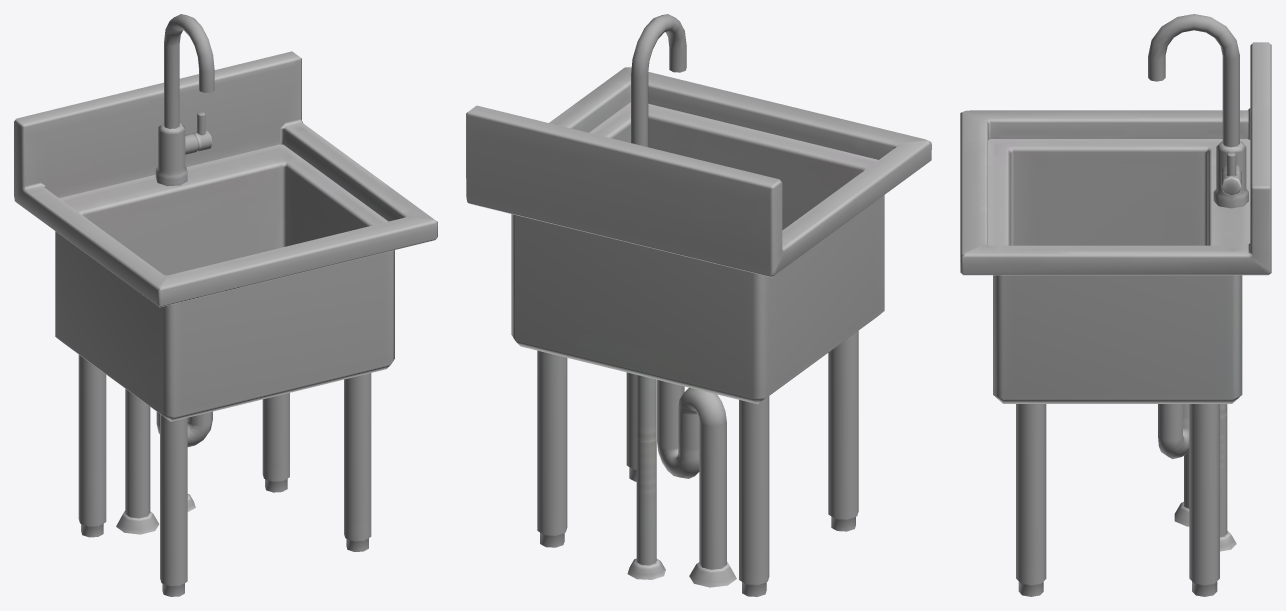
3 views of the same model, side by side, from view 1: azimuth 30°, elevation 25°; view 2: azimuth 150°, elevation 25°; view 3: azimuth 270°, elevation 25° (orthographic). The views are drawn at different scales.
Size of the model in its own units: 7.08 by 11.98 by 6.39.
Materials: 1 (1 with a texture image).
